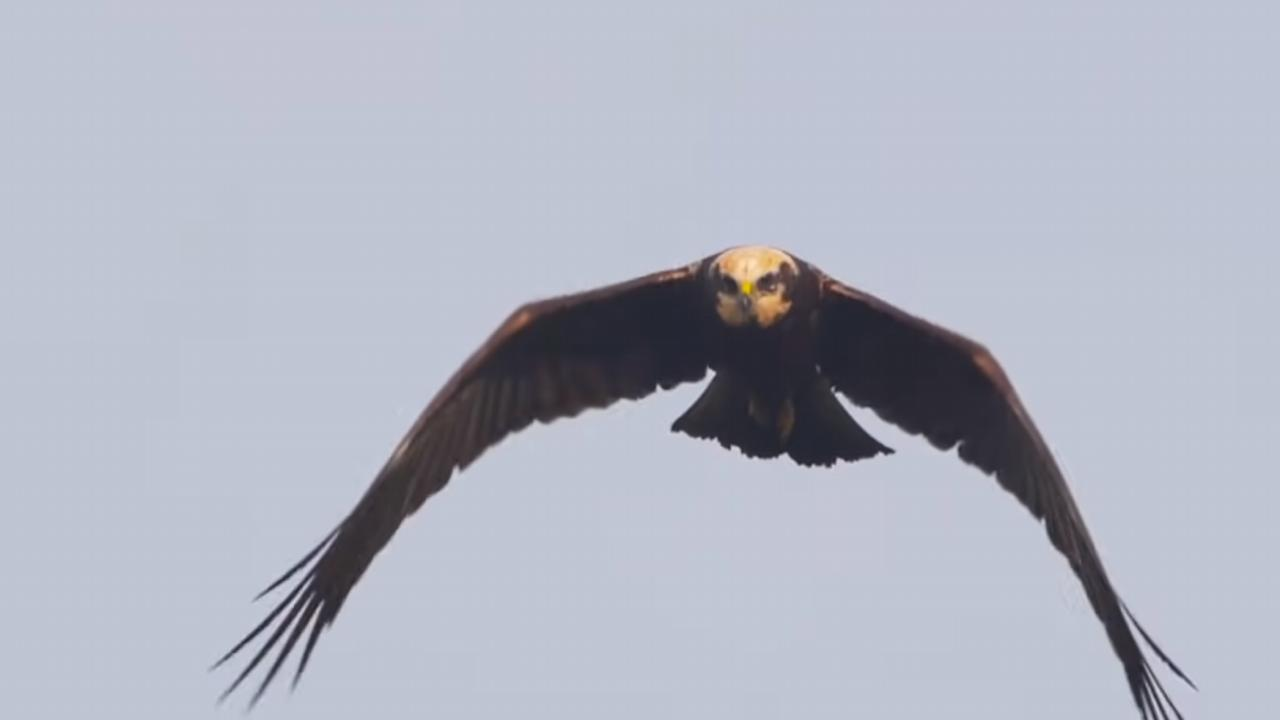Bird: (197, 239, 1204, 720)
